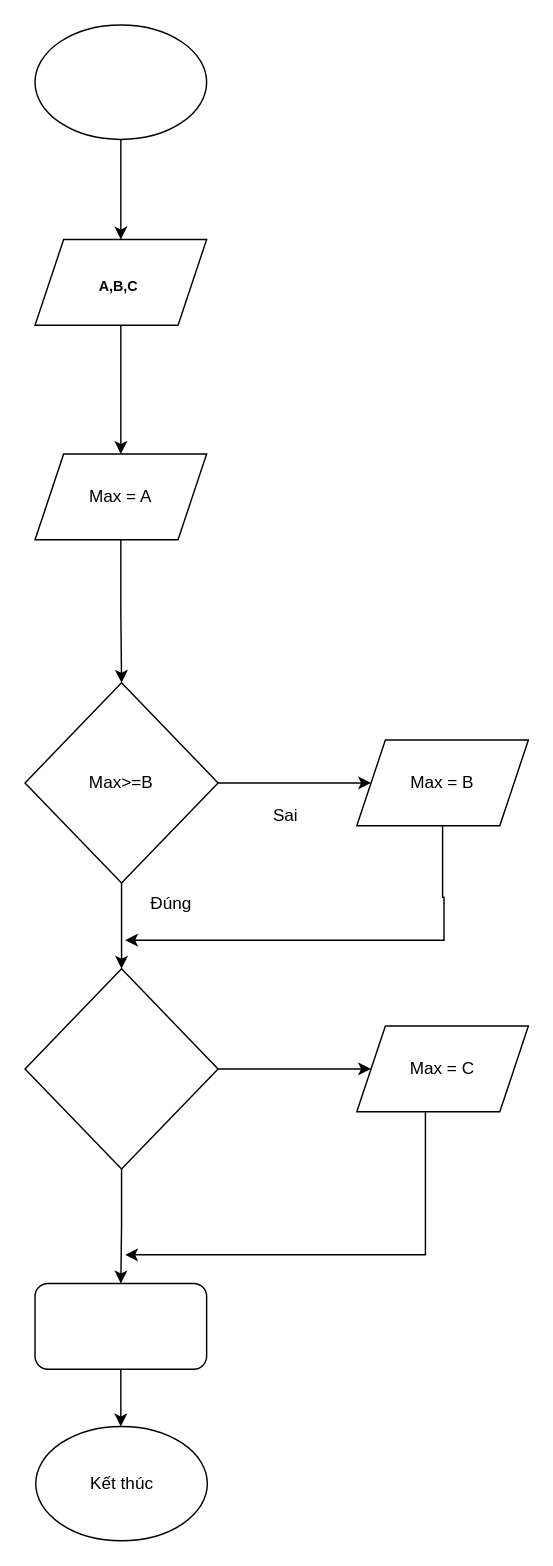
This 553x1566 diagram has some shape labels left out. Here are the shapes that lost their labels. From the top down, the centre of each, then its label:
At point 120,81: "Bắt đầu".
At point 121,1068: "Max >=C".
At point 120,1325: "Max là".
